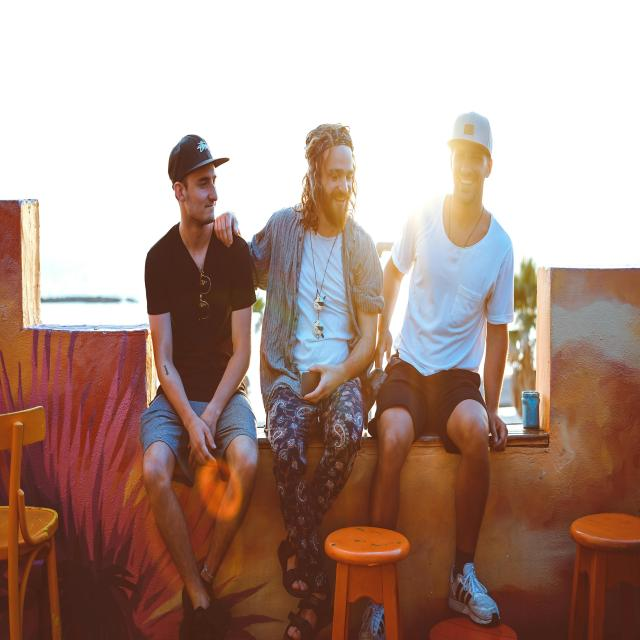sit: (356, 90, 526, 604), (254, 102, 384, 601), (134, 122, 253, 616)
